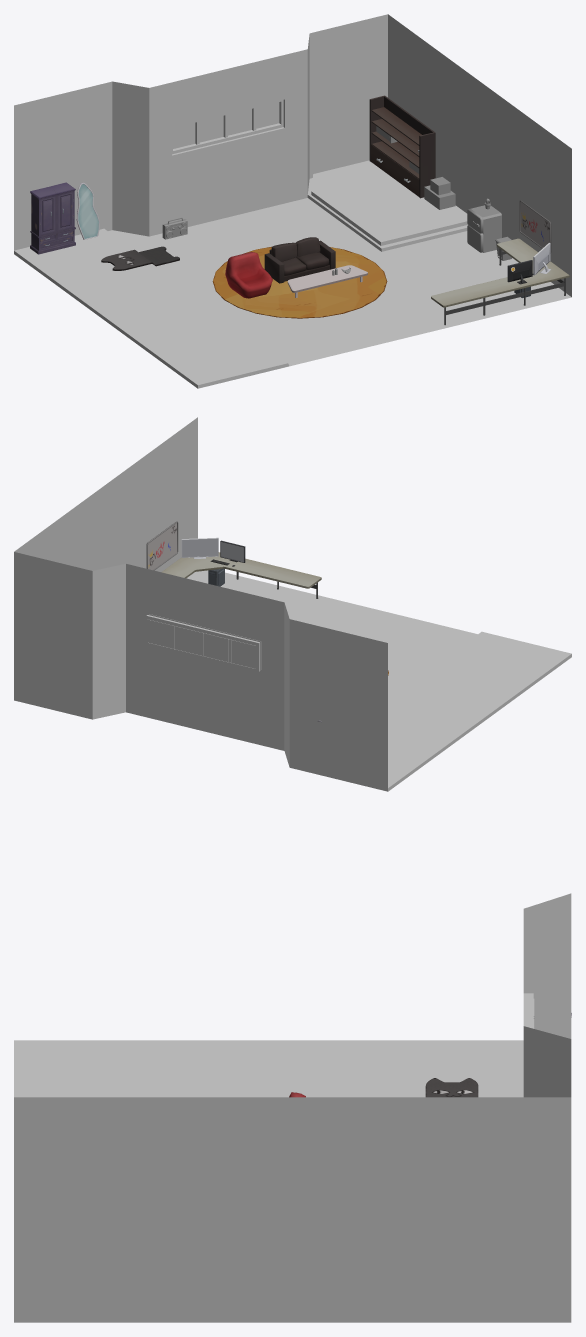
The model's file is HangOut_.fbx.
3 renders of one model, top to bottom at view 1: azimuth 30°, elevation 25°; view 2: azimuth 150°, elevation 25°; view 3: azimuth 270°, elevation 25°, orthographic. The views are drawn at different scales.
Parts seen in each view (by area): view 1: Walls, Objects_big, Objecrs_small; view 2: Walls, Objects_big; view 3: Walls, Objects_big.
Part boxes in pixels (left/top/right/bottom): Walls: left=14, top=14, right=571, bottom=388; Objects_big: left=30, top=95, right=569, bottom=325; Objecrs_small: left=162, top=126, right=511, bottom=275; Walls: left=14, top=417, right=571, bottom=791; Objects_big: left=146, top=521, right=388, bottom=722; Walls: left=14, top=893, right=571, bottom=1322; Objects_big: left=289, top=1013, right=571, bottom=1097.
Bounding box in the file's own units: 1671 × 635 × 1424.
